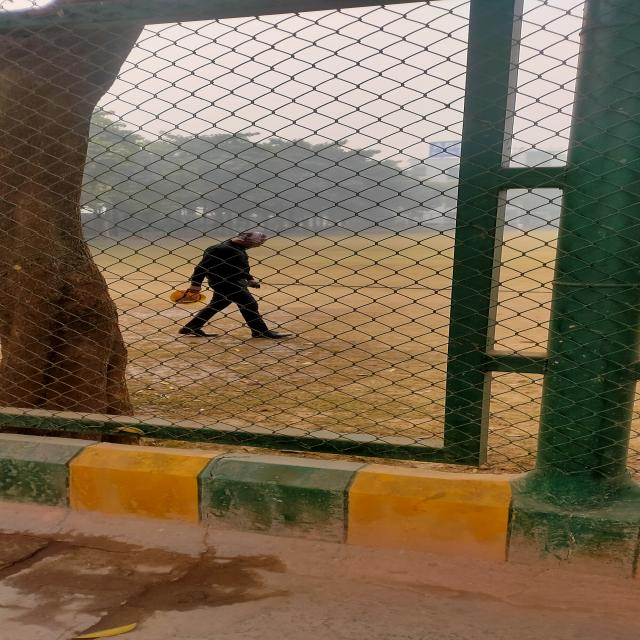unsafe: (182, 231, 293, 340)
